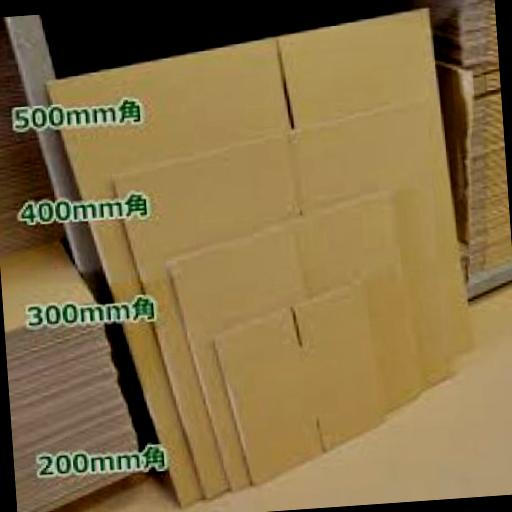cardboard: (40, 4, 482, 506), (101, 96, 463, 512), (163, 194, 426, 504), (0, 234, 146, 512), (207, 279, 389, 488), (434, 74, 512, 278), (0, 14, 65, 250), (0, 237, 89, 335), (432, 58, 478, 244), (405, 0, 497, 76)
